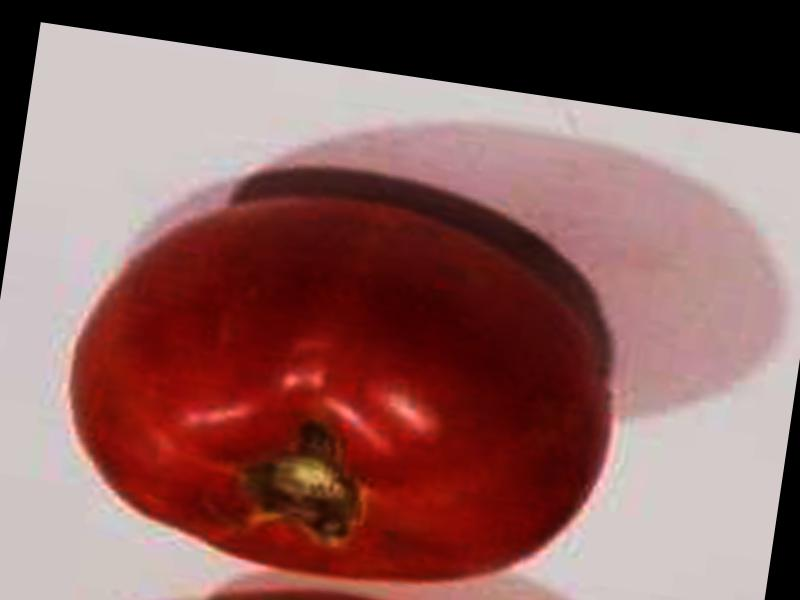Tomato: (47, 167, 631, 600)
